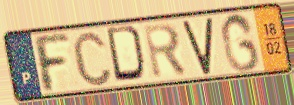C: (70, 28, 115, 89)
D: (104, 23, 150, 84)
F: (29, 32, 72, 95)
G: (218, 10, 262, 75)
R: (141, 21, 190, 82)
V: (181, 15, 215, 78)
